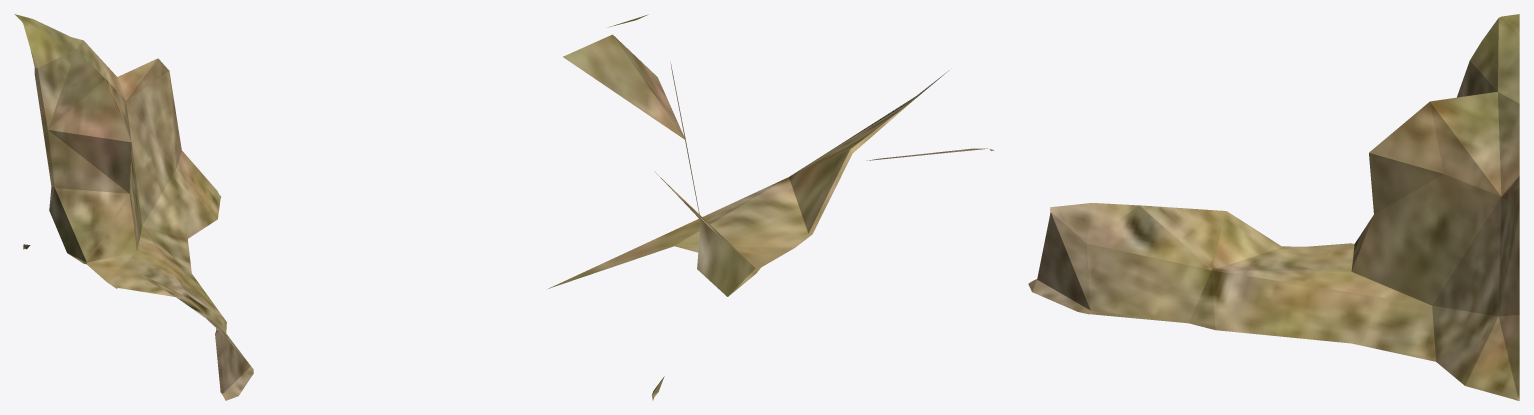
The picture shows the model from 3 angles, left to right: view 1: azimuth 30°, elevation 25°; view 2: azimuth 150°, elevation 25°; view 3: azimuth 270°, elevation 25°; orthographic projection. The views are drawn at different scales.
Size of the model in its own units: 1.26 by 1.35 by 2.24.
1 material, 1 textured.
